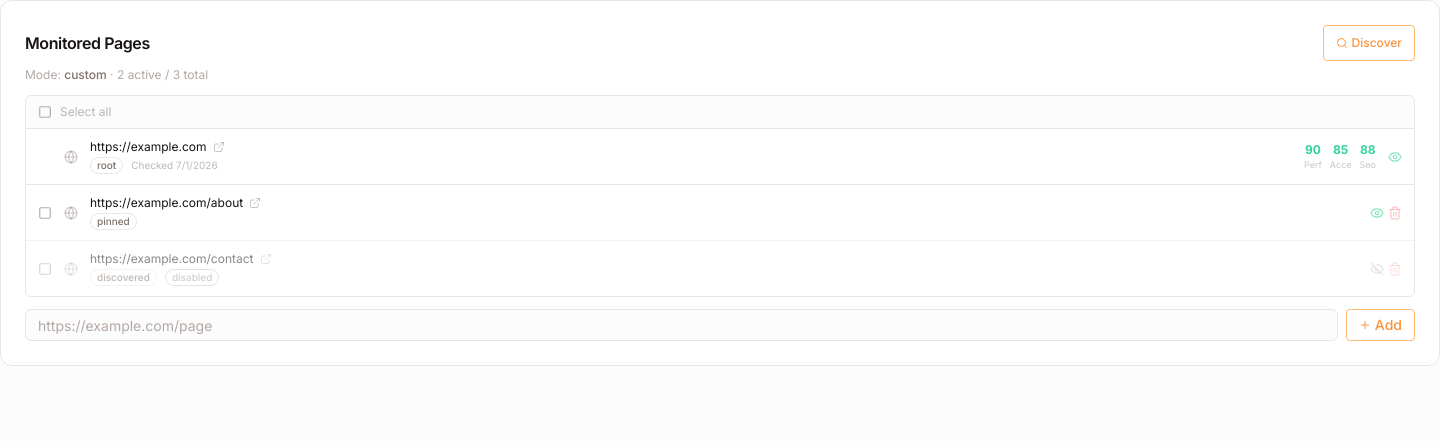
Test: MonitorPages › selecting a page shows bulk action bar
The width and height of the screenshot is (1440, 441).
Expected: the text "https://example.com/about" is shown, [90,195,243,211]
Click the button named "select page" next to "https://example.com/about". click: (45, 212)
box: [38,206,52,220]
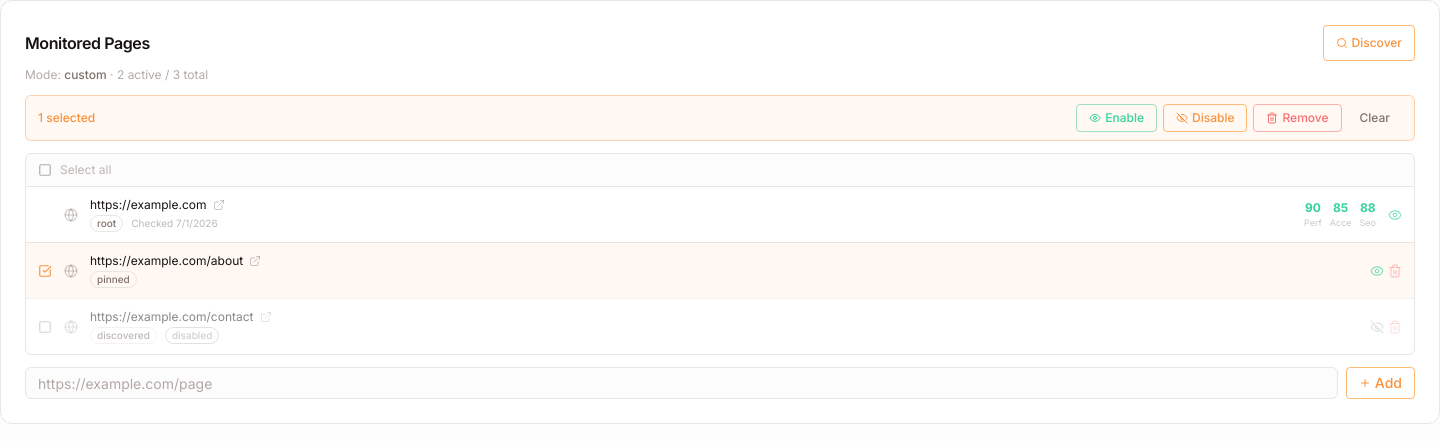
Expected: the text "1 selected" is shown, [38,110,95,126]
